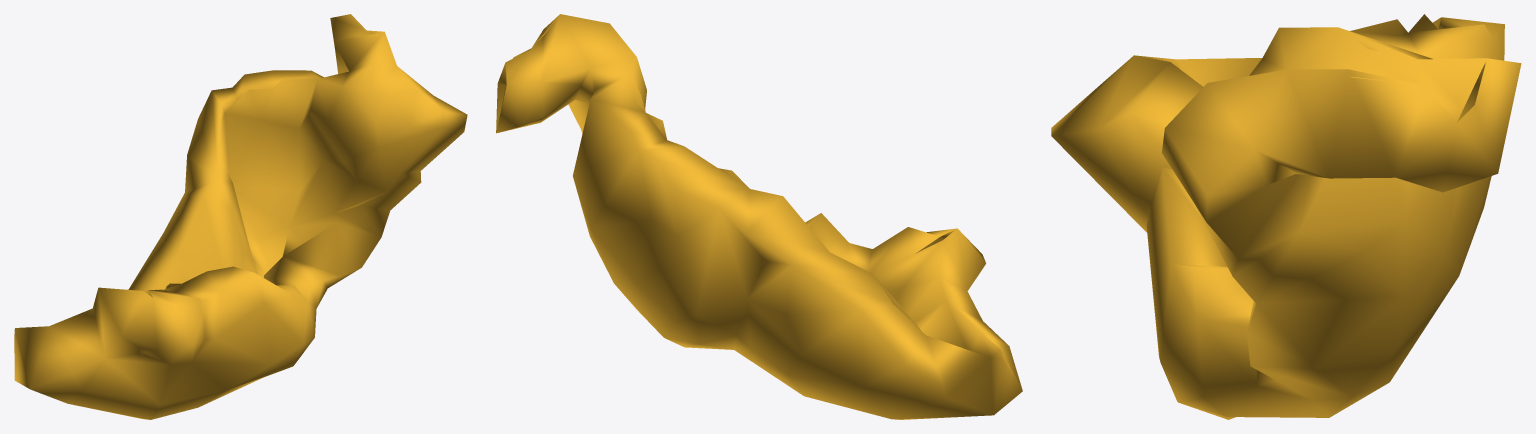
Rendered from nervoso-precentral-sulcus-superior-part-r.glb.
3 views of the same model, side by side, from view 1: azimuth 30°, elevation 25°; view 2: azimuth 150°, elevation 25°; view 3: azimuth 270°, elevation 25° (orthographic). The views are drawn at different scales.
Visible parts, largest first — view 1: Precentral sulcus (Superior part)*.r; view 2: Precentral sulcus (Superior part)*.r; view 3: Precentral sulcus (Superior part)*.r.
Boxes of the visible parts, bbox=[...] form: Precentral sulcus (Superior part)*.r: bbox=[14, 14, 467, 419]; Precentral sulcus (Superior part)*.r: bbox=[496, 14, 1022, 419]; Precentral sulcus (Superior part)*.r: bbox=[1051, 14, 1521, 419].
Bounding box in the file's own units: 0.0392 × 0.0268 × 0.0205.
